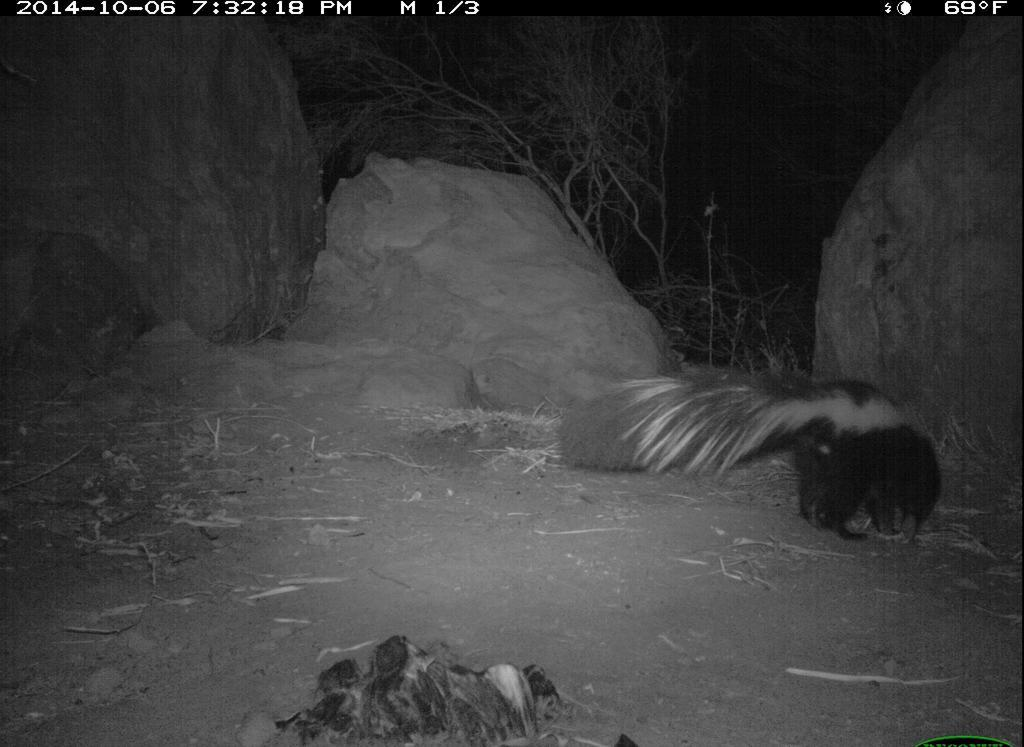skunk: (551, 321, 962, 579)
